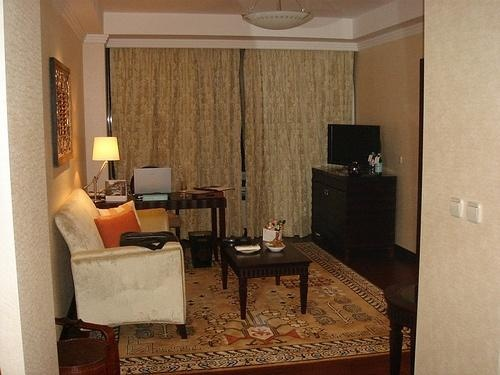sofa: (56, 188, 184, 337)
tvmonitor: (327, 124, 382, 170)
